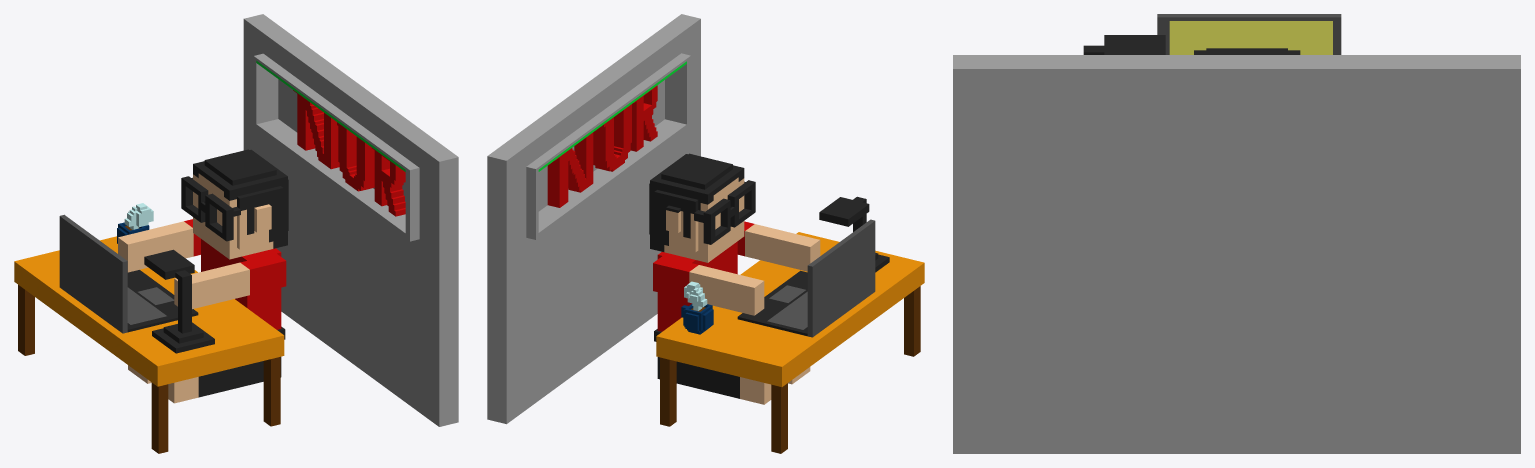
Rendered from new-baked.glb.
3 renders of one model, left to right at view 1: azimuth 30°, elevation 25°; view 2: azimuth 150°, elevation 25°; view 3: azimuth 270°, elevation 25°, orthographic. The views are drawn at different scales.
Visible parts, largest first — view 1: Nur new; view 2: Nur new; view 3: Nur new.
Boxes of the visible parts, left/top/right/bottom form: Nur new: left=14, top=14, right=458, bottom=453; Nur new: left=487, top=14, right=924, bottom=453; Nur new: left=953, top=14, right=1520, bottom=453.
Size of the model in its own units: 11.2 by 10.4 by 13.9.
1 material, 1 textured.
